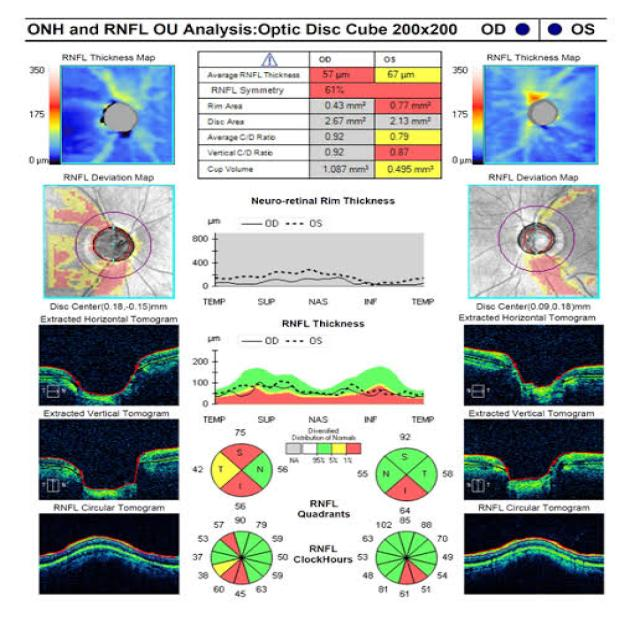rim area: (205, 99, 440, 113)
rim area-od: (314, 99, 372, 113)
rim area-os: (382, 98, 440, 112)
vertical cd ratio: (206, 144, 434, 160)
vertical cd ratio-od: (314, 144, 366, 159)
vertical cd ratio-os: (384, 144, 432, 159)
